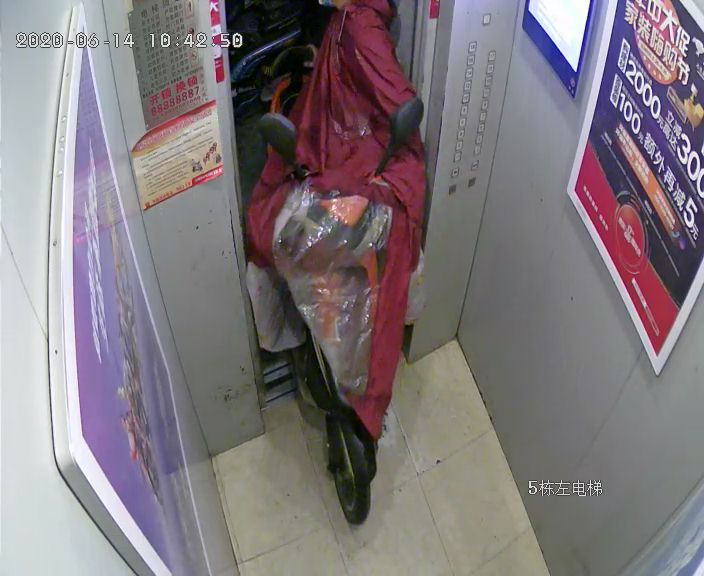Electric-bicycle: (253, 43, 426, 524)
